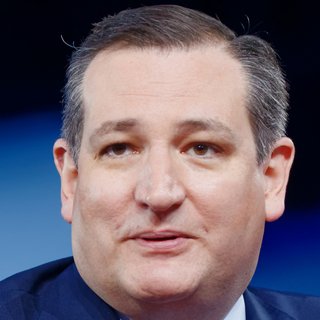eye: (174, 133, 233, 168), (92, 135, 150, 165)
